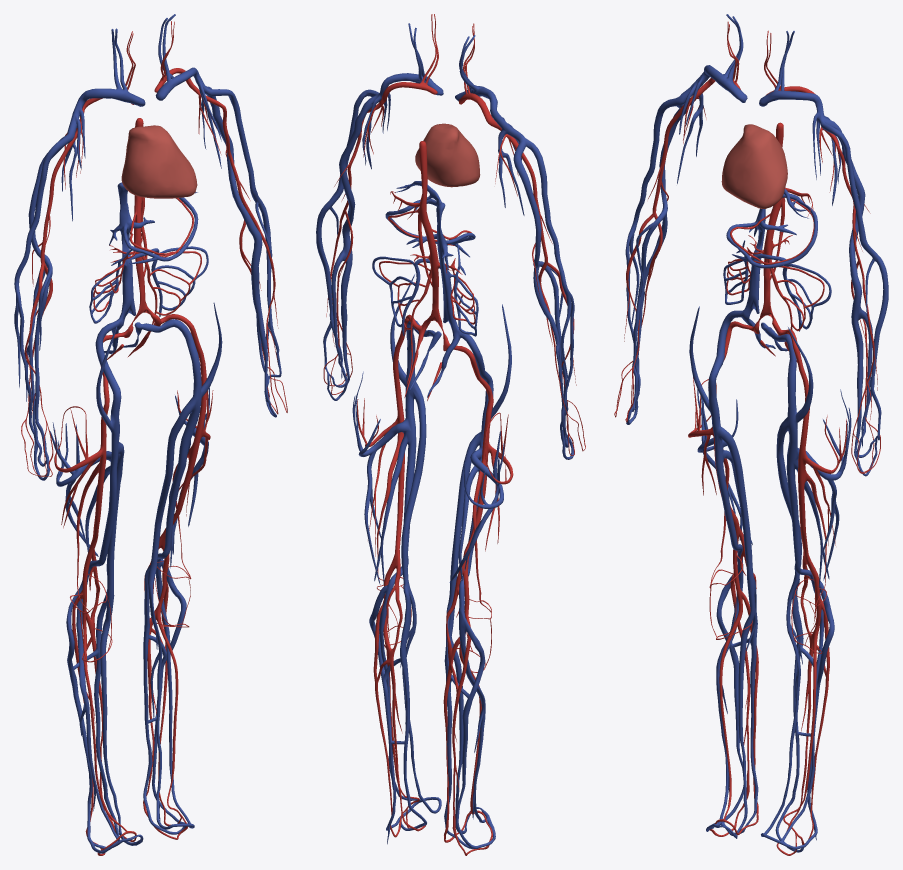
File: pediatric_child_10y_female.cardiovascular.LOD1.glb
3 views of the same model, side by side, from view 1: azimuth 30°, elevation 25°; view 2: azimuth 150°, elevation 25°; view 3: azimuth 330°, elevation 25° (orthographic).
Parts seen in each view (by area): view 1: PEDIATRIC.CHILD_10Y.FEMALE.CARDIOVASCULAR.BLOOD_IN_LARGE_VEI, PEDIATRIC.CHILD_10Y.FEMALE.CARDIOVASCULAR.BLOOD_IN_LARGE_ART, PEDIATRIC.CHILD_10Y.FEMALE.CARDIOVASCULAR.HEART_WALL; view 2: PEDIATRIC.CHILD_10Y.FEMALE.CARDIOVASCULAR.BLOOD_IN_LARGE_VEI, PEDIATRIC.CHILD_10Y.FEMALE.CARDIOVASCULAR.BLOOD_IN_LARGE_ART, PEDIATRIC.CHILD_10Y.FEMALE.CARDIOVASCULAR.HEART_WALL; view 3: PEDIATRIC.CHILD_10Y.FEMALE.CARDIOVASCULAR.BLOOD_IN_LARGE_VEI, PEDIATRIC.CHILD_10Y.FEMALE.CARDIOVASCULAR.BLOOD_IN_LARGE_ART, PEDIATRIC.CHILD_10Y.FEMALE.CARDIOVASCULAR.HEART_WALL.
Boxes of the visible parts, x1,y1,x2,y2 form: PEDIATRIC.CHILD_10Y.FEMALE.CARDIOVASCULAR.BLOOD_IN_LARGE_VEI: (14, 14, 281, 853); PEDIATRIC.CHILD_10Y.FEMALE.CARDIOVASCULAR.BLOOD_IN_LARGE_ART: (21, 21, 287, 855); PEDIATRIC.CHILD_10Y.FEMALE.CARDIOVASCULAR.HEART_WALL: (121, 125, 197, 198); PEDIATRIC.CHILD_10Y.FEMALE.CARDIOVASCULAR.BLOOD_IN_LARGE_VEI: (316, 23, 574, 848); PEDIATRIC.CHILD_10Y.FEMALE.CARDIOVASCULAR.BLOOD_IN_LARGE_ART: (323, 14, 585, 855); PEDIATRIC.CHILD_10Y.FEMALE.CARDIOVASCULAR.HEART_WALL: (415, 123, 480, 187); PEDIATRIC.CHILD_10Y.FEMALE.CARDIOVASCULAR.BLOOD_IN_LARGE_VEI: (625, 14, 888, 852); PEDIATRIC.CHILD_10Y.FEMALE.CARDIOVASCULAR.BLOOD_IN_LARGE_ART: (614, 21, 880, 855); PEDIATRIC.CHILD_10Y.FEMALE.CARDIOVASCULAR.HEART_WALL: (721, 124, 787, 208).
Size of the model in its own units: 0.4063 by 1.24 by 0.1452.
